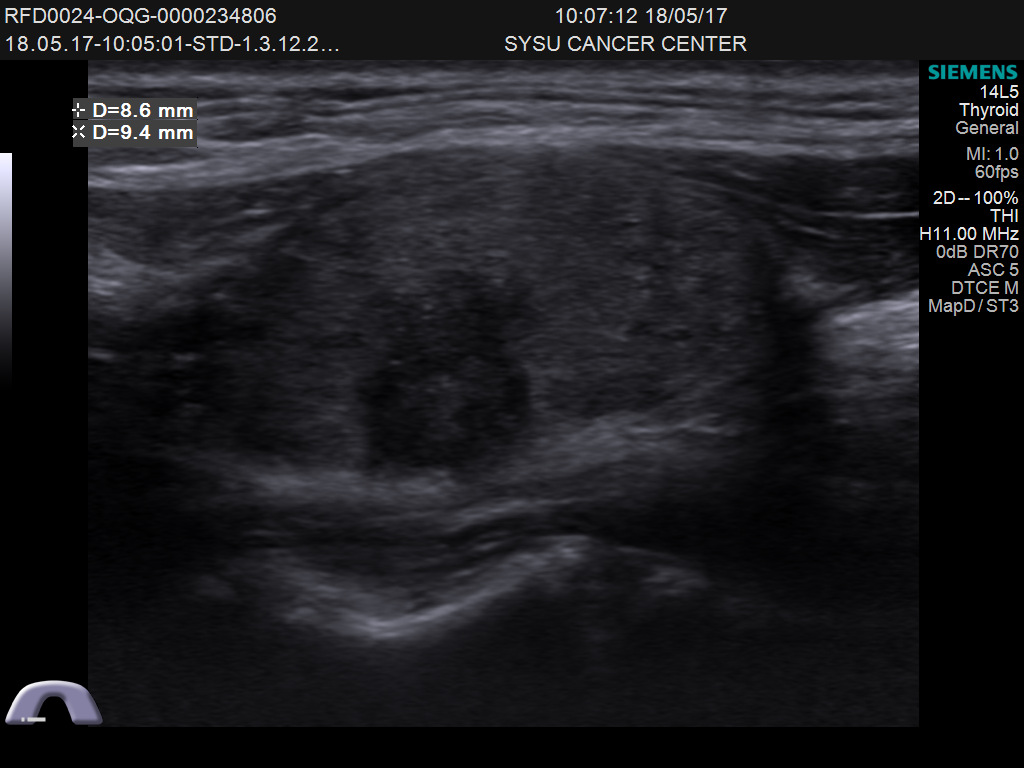Thyroid_tumor: (335, 253, 550, 493)
